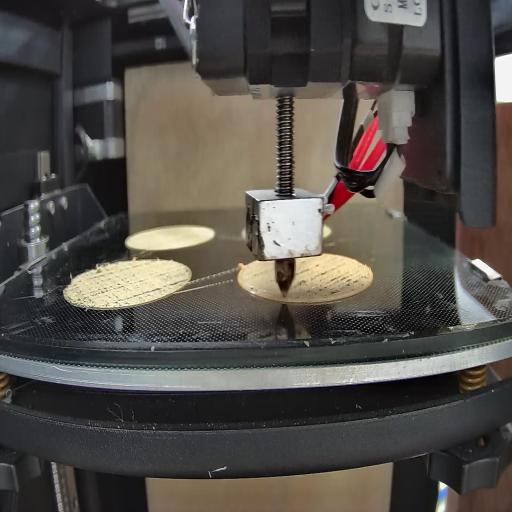under_extrusion: (67, 261, 165, 306), (292, 266, 372, 294), (244, 274, 260, 295), (168, 276, 187, 289)
